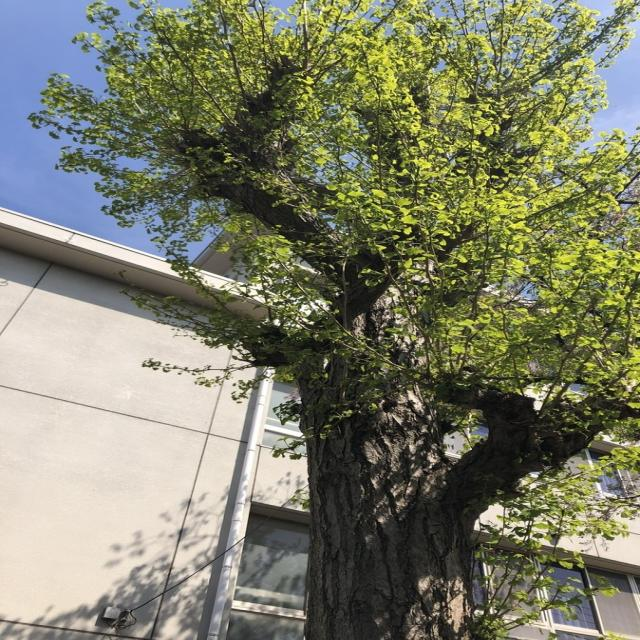ginkgo: (28, 0, 640, 640)
